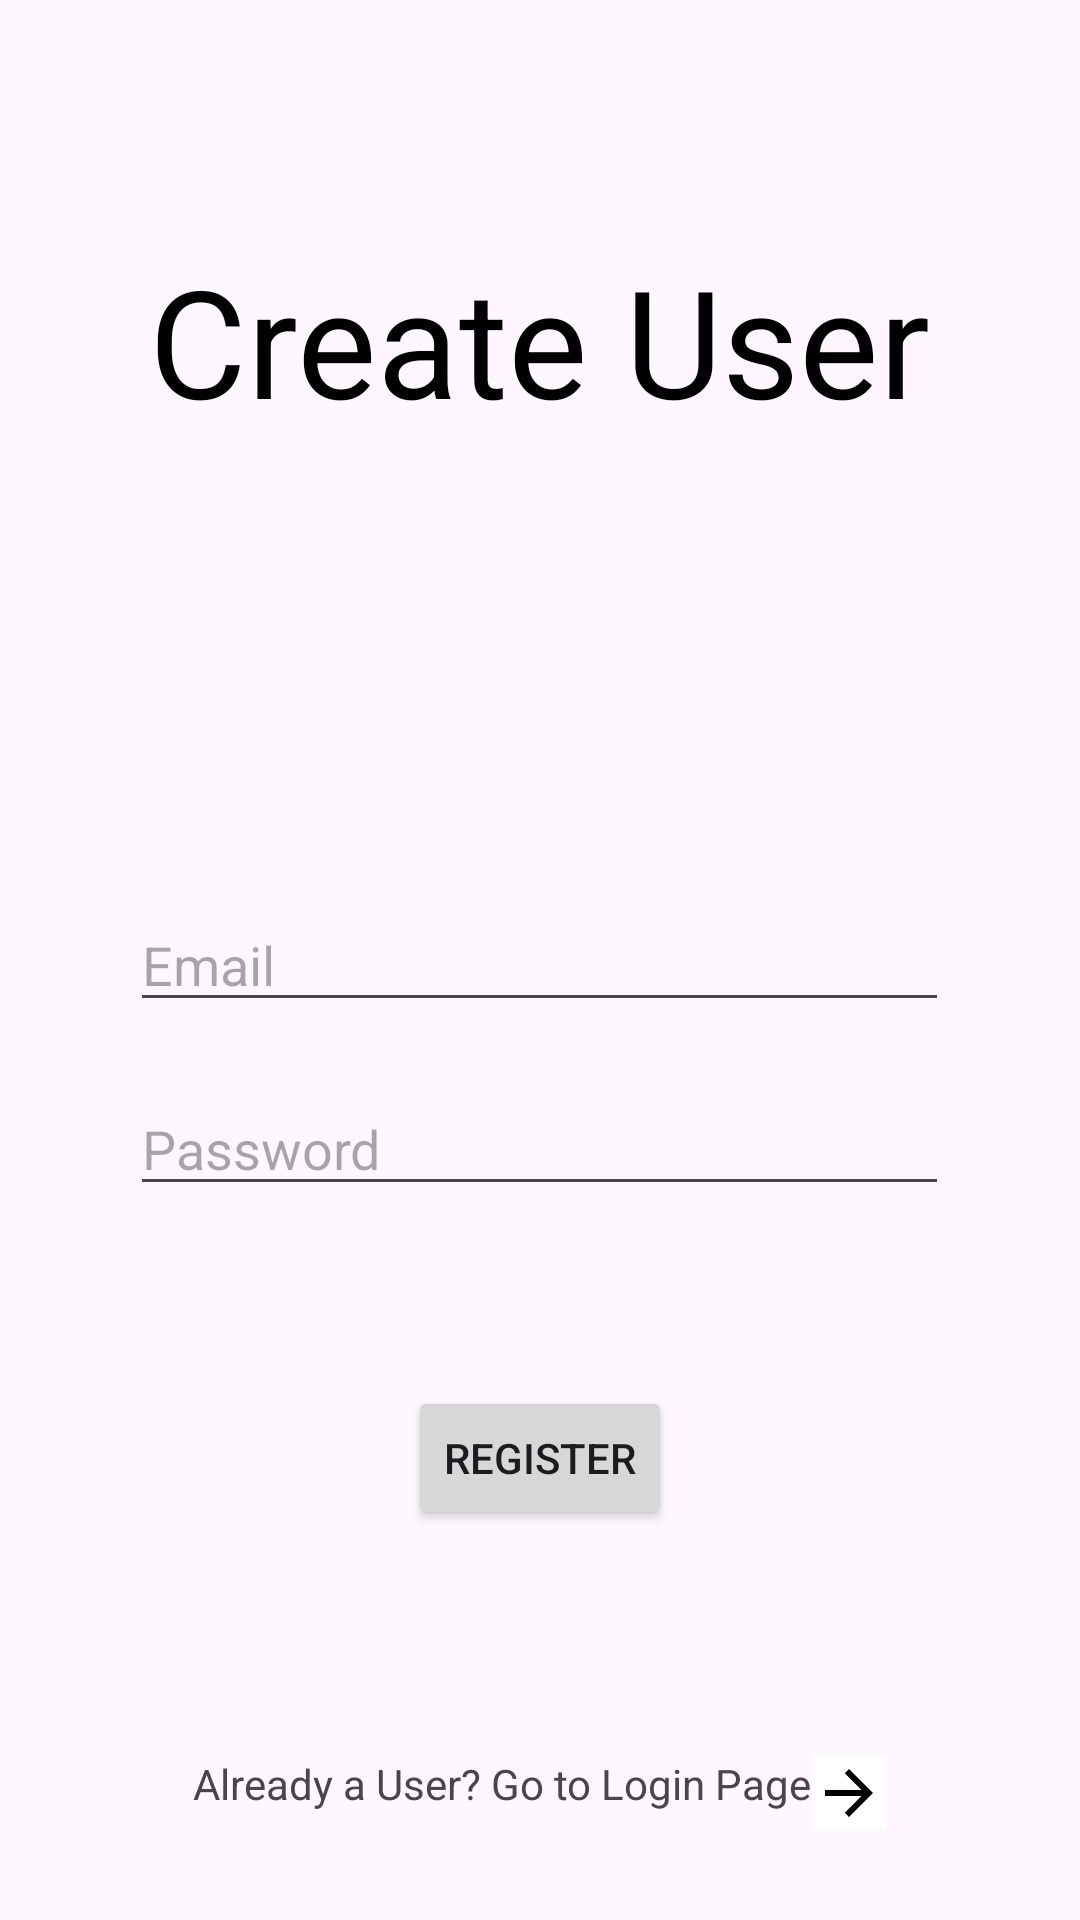

Screen size 1080px×1920px. Icon name, then its box in pixels as (x1, y1, x2, y2):
arrow forward: (825, 1769, 873, 1817)
